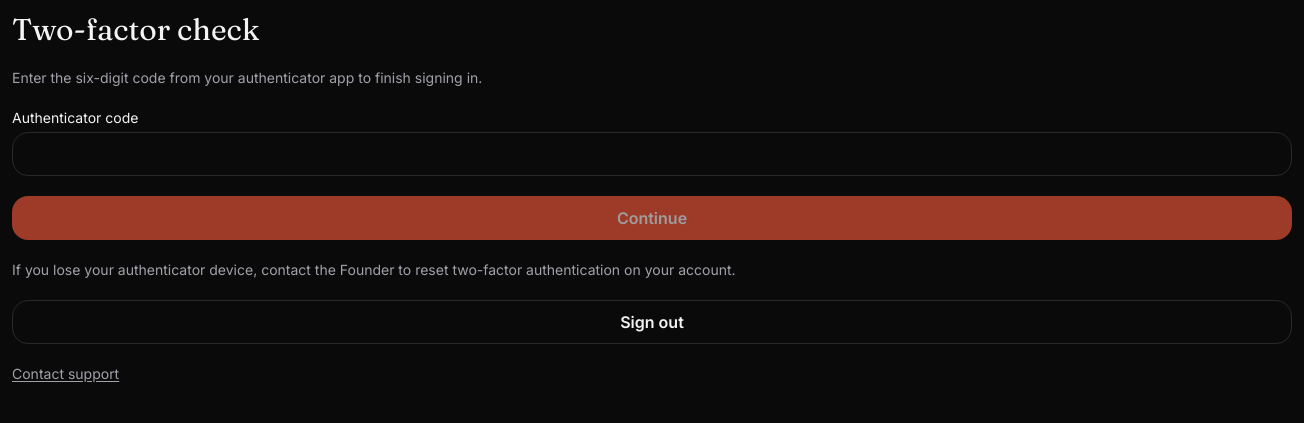
Test case: MfaChallengeScreen › shows an error for a wrong code without password hints
In the field labelled "Authenticator code": (652, 154) [12,132,1292,176], type "000000"
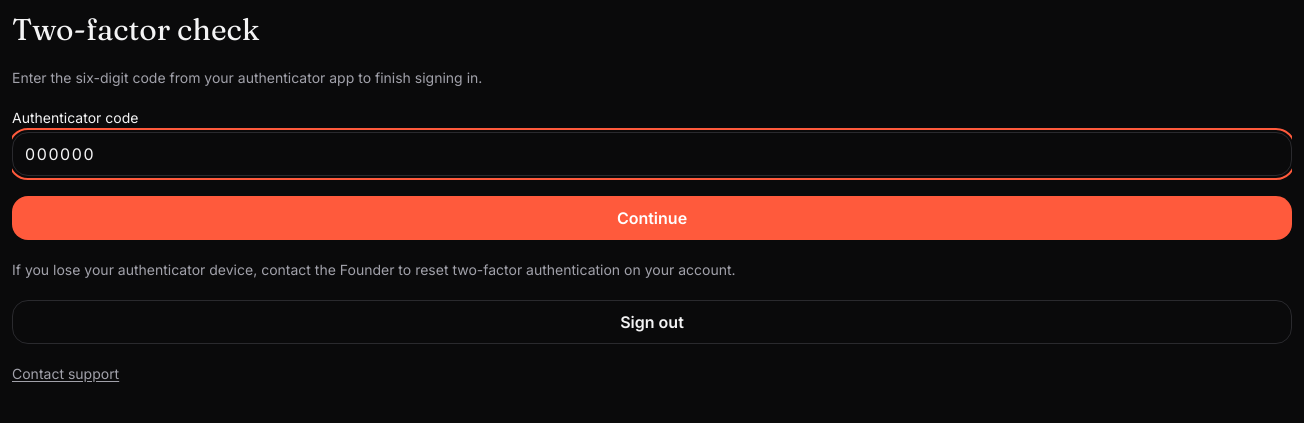
Click the button "Continue": (652, 218) [12,196,1292,240]
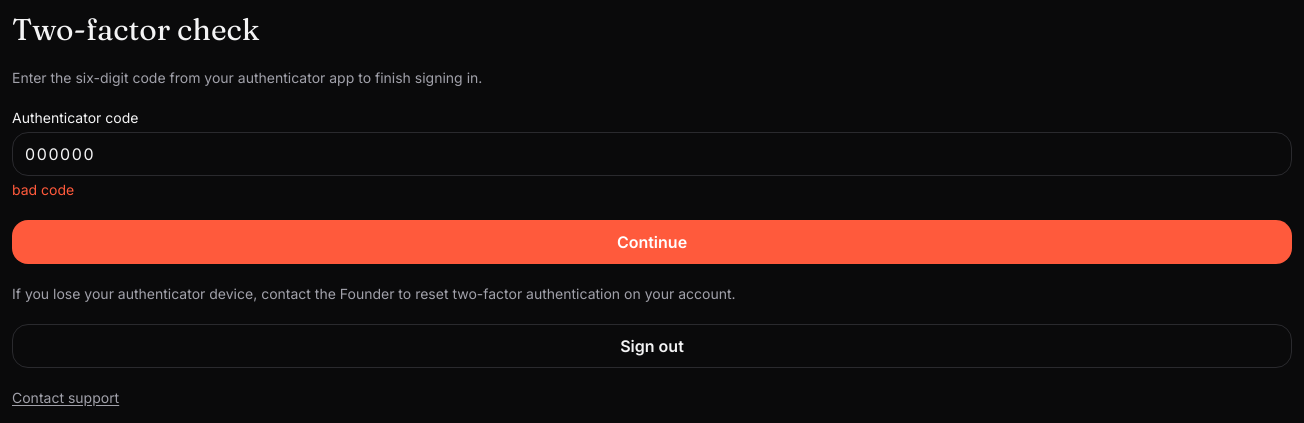
Expected: the message reads "bad code", [12,181,74,198]
